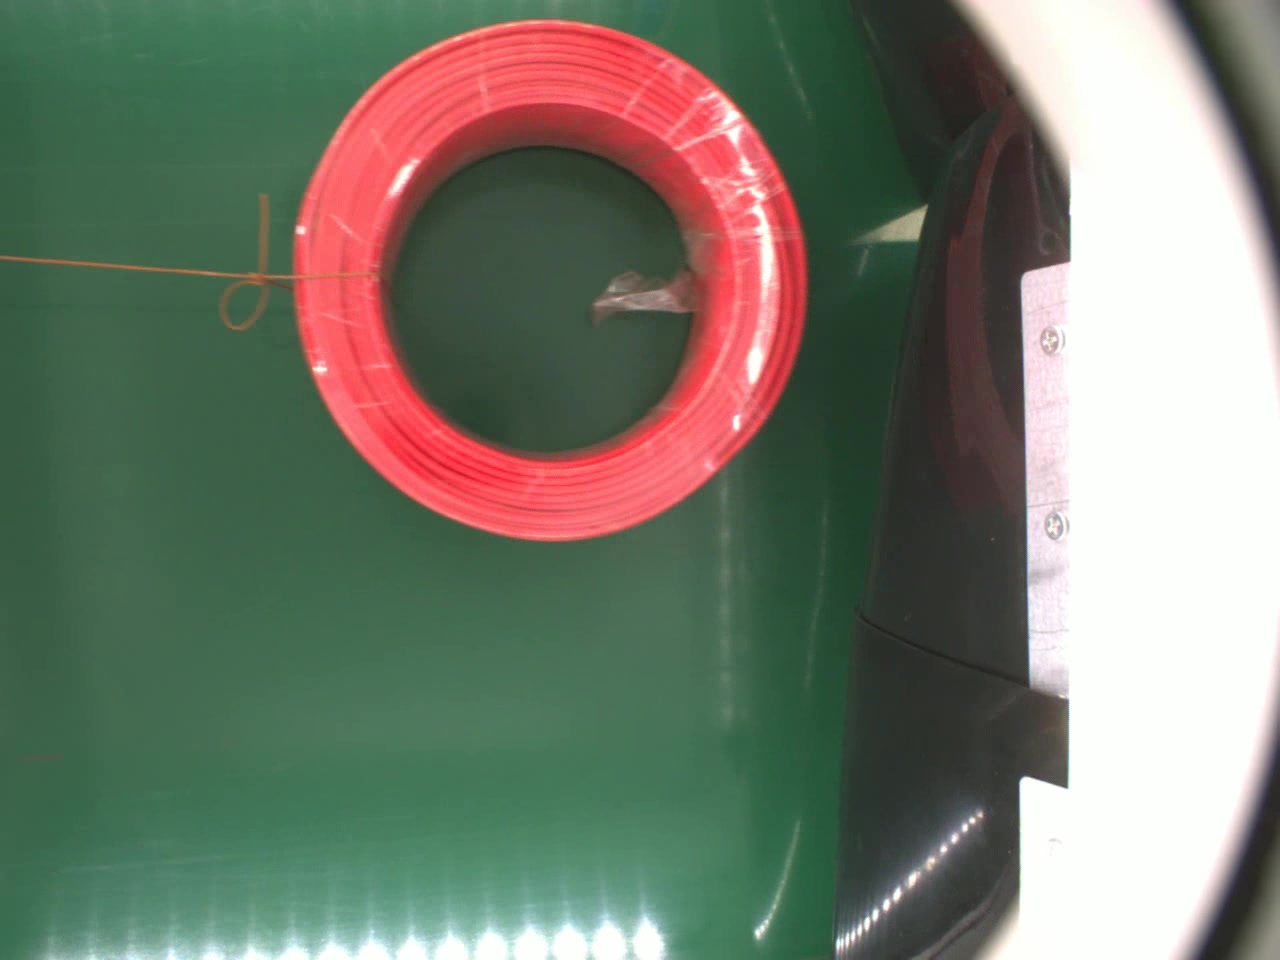red: (289, 20, 812, 547)
